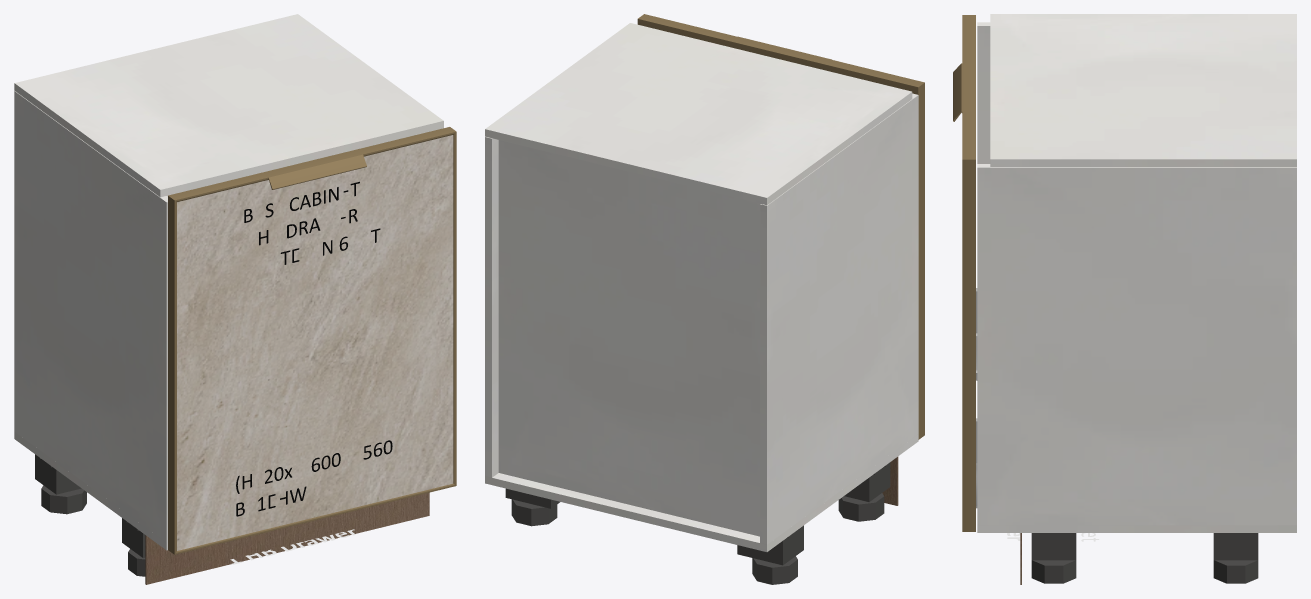
The model's file is BC-AC-TTS-ST-WBP-1HF-XXX-600-720-560-15.glb.
3 views of the same model, side by side, from view 1: azimuth 30°, elevation 25°; view 2: azimuth 150°, elevation 25°; view 3: azimuth 270°, elevation 25° (orthographic). The views are drawn at different scales.
Parts seen in each view (by area): view 1: Object_node_40, TP_node, TP_node_1, Object_node_42, Extrusion_node_4, ExtrSplGeo, Extrusion_node, Extrusion_node_2, TP, 2D text_node, Extrusion_node_3, 2D text (+3 smaller); view 2: TP_node_4, TP_node, TP_node_1, TP, TP_node_0, Extrusion_node_4, Extrusion_node, ExtrSplGeo, Plate, Foot, Foot_node_0, Foot_node (+1 smaller); view 3: TP_node_0, TP_node_1, Extrusion_node_2, TP, TP_node, Extrusion_node, Plate_node, Plate_node_1, ExtrSplGeo, Foot_node, Foot_node_1.
Part boxes in pixels (<box>): Object_node_40: <box>177,135,453,550</box>; TP_node: <box>14,91,167,542</box>; TP_node_1: <box>14,14,443,197</box>; Object_node_42: <box>145,492,429,584</box>; Extrusion_node_4: <box>168,196,176,554</box>; ExtrSplGeo: <box>262,149,366,189</box>; Extrusion_node: <box>168,127,456,201</box>; Extrusion_node_2: <box>453,132,456,485</box>; TP: <box>14,432,167,550</box>; 2D text_node: <box>244,181,380,264</box>; Extrusion_node_3: <box>175,483,455,554</box>; 2D text: <box>236,440,392,516</box>; TP_node_4: <box>498,140,760,536</box>; TP_node: <box>760,93,918,544</box>; TP_node_1: <box>485,23,912,205</box>; TP: <box>485,434,918,551</box>; TP_node_0: <box>485,136,498,477</box>; Extrusion_node_4: <box>912,83,924,439</box>; Extrusion_node: <box>638,14,924,91</box>; ExtrSplGeo: <box>731,36,831,70</box>; Plate: <box>737,525,803,565</box>; Foot: <box>752,556,797,584</box>; Foot_node_0: <box>838,493,884,521</box>; Foot_node: <box>511,499,557,526</box>; TP_node_0: <box>977,164,1296,525</box>; TP_node_1: <box>990,14,1296,166</box>; Extrusion_node_2: <box>962,159,975,531</box>; TP: <box>977,525,1296,532</box>; TP_node: <box>977,22,990,163</box>; Extrusion_node: <box>962,15,975,159</box>; Plate_node: <box>1213,533,1258,560</box>; Plate_node_1: <box>1031,533,1076,560</box>; ExtrSplGeo: <box>953,63,975,121</box>; Foot_node: <box>1213,560,1258,583</box>; Foot_node_1: <box>1031,560,1076,583</box>.
Size of what is drawn, in the model's own units: 0.6 by 0.82 by 0.6.
Materials: 9 (4 with a texture image).
